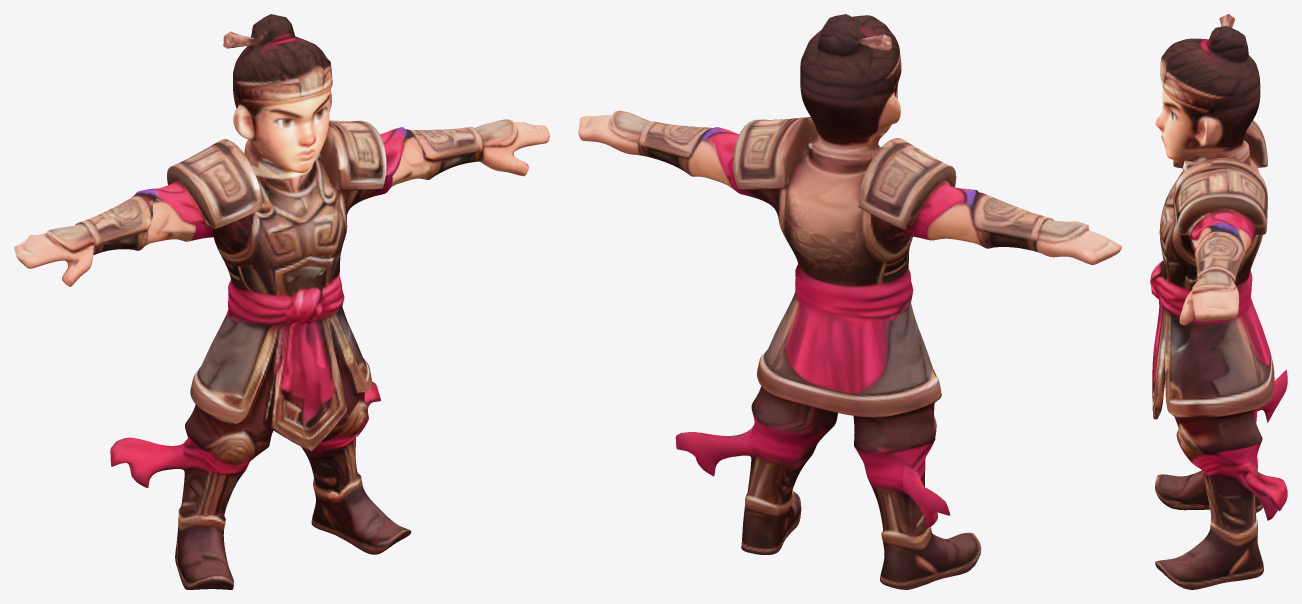
The model's file is base_basic_shaded.fbx.
3 views of the same model, side by side, from view 1: azimuth 30°, elevation 25°; view 2: azimuth 150°, elevation 25°; view 3: azimuth 270°, elevation 25° (orthographic). The views are drawn at different scales.
Parts seen in each view (by area): view 1: model; view 2: model; view 3: model.
Part boxes in pixels (left/top/right/bottom): model: left=14, top=14, right=549, bottom=589; model: left=578, top=14, right=1121, bottom=589; model: left=1150, top=14, right=1287, bottom=589.
Size of the model in its own units: 190 by 184 by 44.6.
